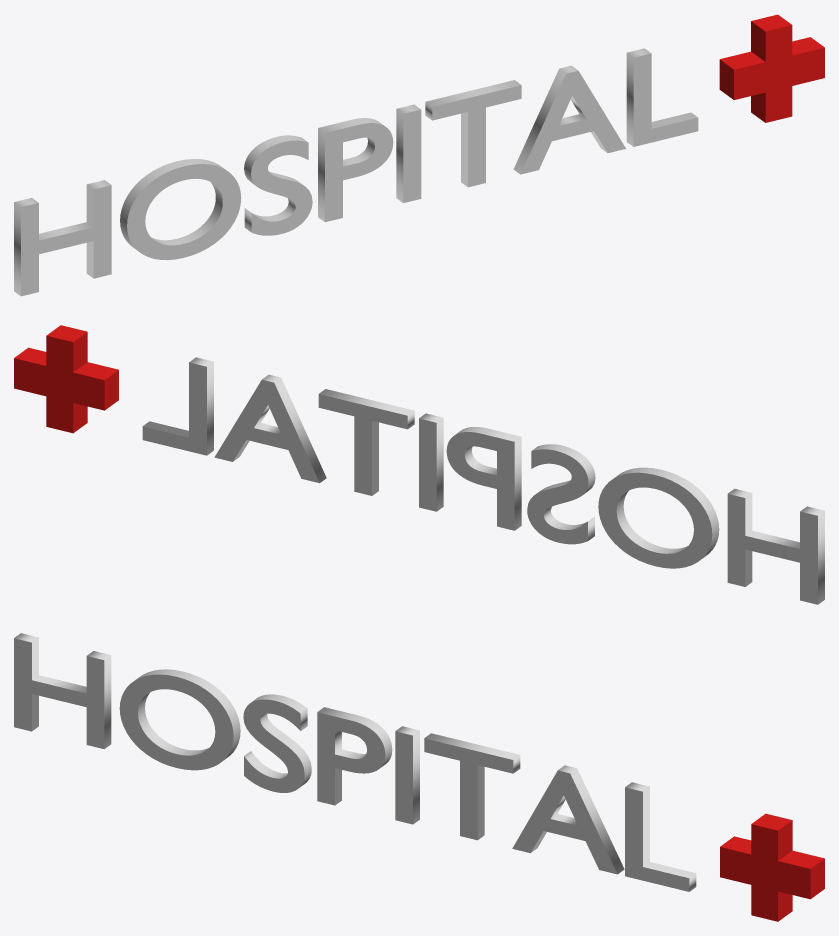
Rendered from HospitalSign.glb.
3 renders of one model, top to bottom at view 1: azimuth 30°, elevation 25°; view 2: azimuth 150°, elevation 25°; view 3: azimuth 330°, elevation 25°, orthographic.
Visible parts, largest first — view 1: Text.001, Cube.010; view 2: Text.001, Cube.010; view 3: Text.001, Cube.010.
Boxes of the visible parts, x1,y1,x2,y2 form: Text.001: (14,48,698,296); Cube.010: (719,14,824,122); Text.001: (142,357,824,604); Cube.010: (14,325,118,433); Text.001: (14,633,696,891); Cube.010: (720,813,824,921).
Size of the model in its own units: 4.28 by 0.4905 by 0.1336.
